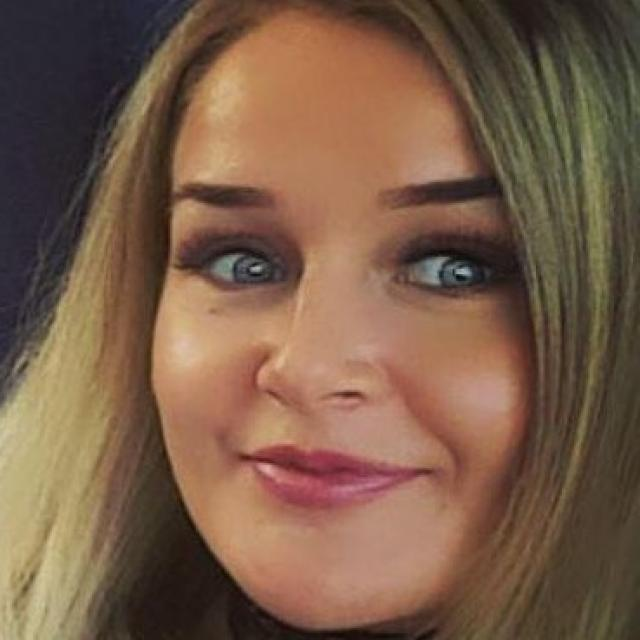Normal: (148, 8, 544, 634)
